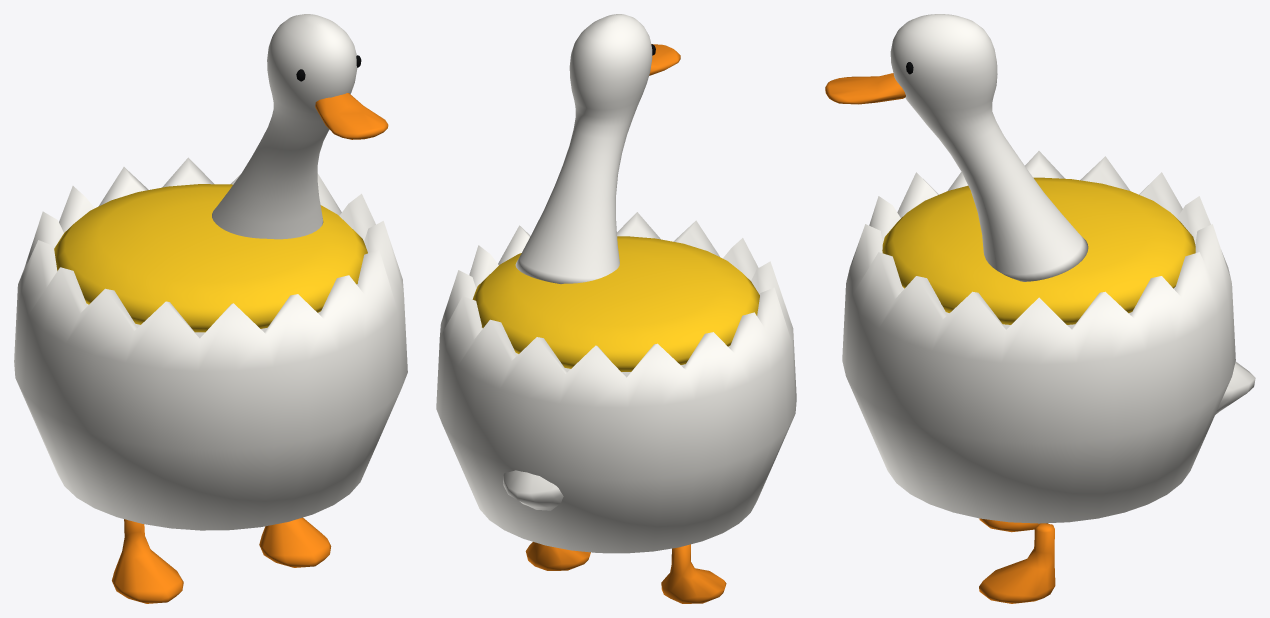
The model's file is duck-egg.glb.
The picture shows the model from 3 angles, left to right: view 1: azimuth 30°, elevation 25°; view 2: azimuth 150°, elevation 25°; view 3: azimuth 270°, elevation 25°; orthographic projection. The views are drawn at different scales.
Parts seen in each view (by area): view 1: duck-egg; view 2: duck-egg; view 3: duck-egg.
Boxes of the visible parts, box(x1,y1,x2,y2) form: duck-egg: box(14, 14, 407, 603); duck-egg: box(436, 14, 796, 603); duck-egg: box(825, 14, 1255, 603).
Size of the model in its own units: 0.6279 by 1 by 0.6864.
1 material, 1 textured.
